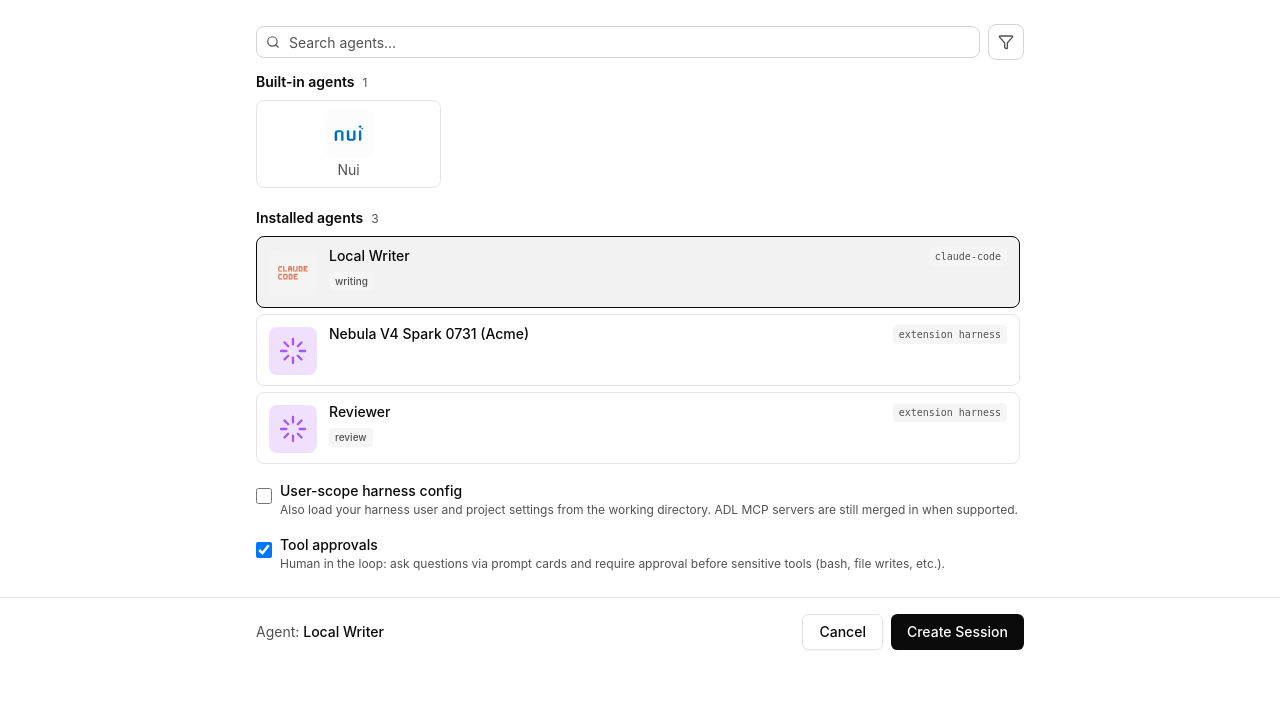
NewSessionPanel tag filter › searches built-in and installed agents together and selects the first result
expect the button "Nui" is shown: met, box [256,100,441,188]
expect the button "Local Writer claude-code writing" is shown: met, box [256,236,1020,308]
Type "review" into the search field labelled "Search agents" at (618,42), box [256,26,980,58]
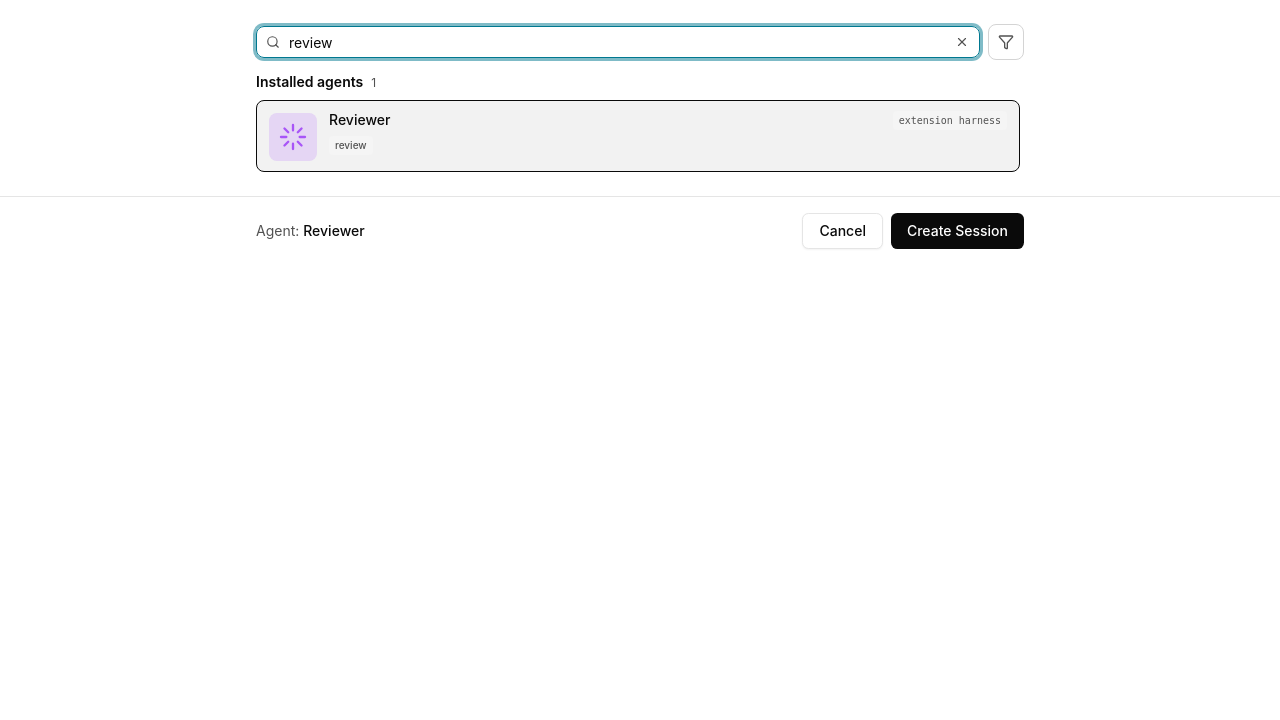
expect the button "Nui" is gone: met
